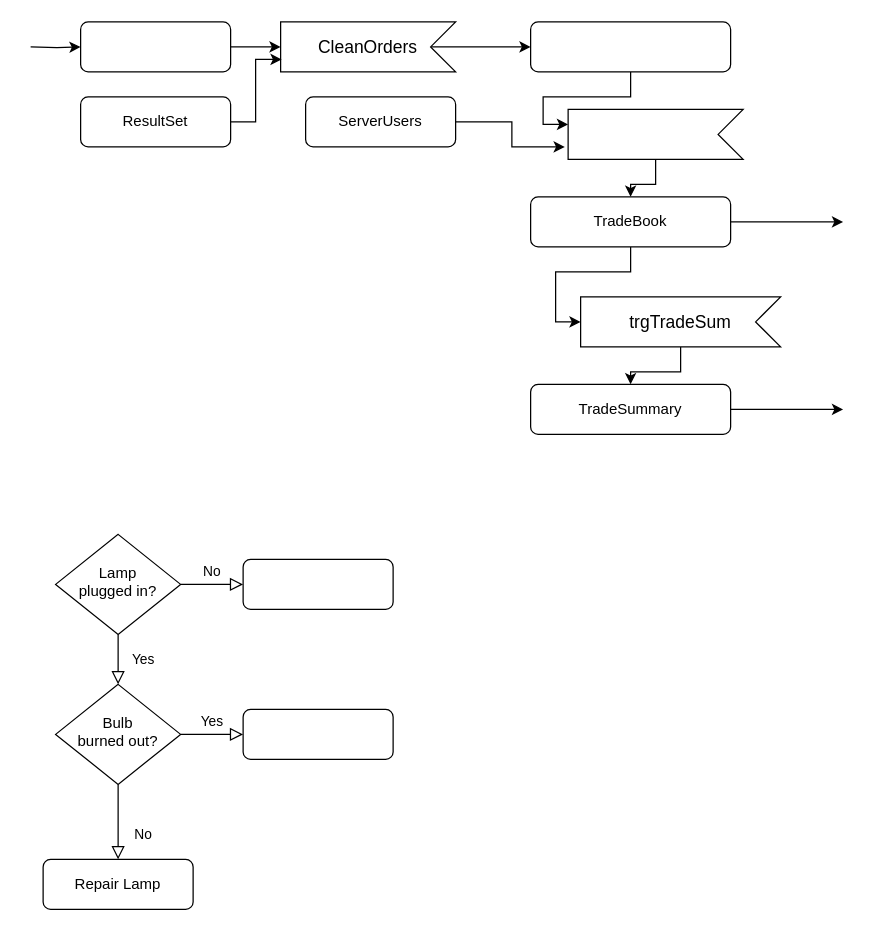
Image size: 875x931. Some labels were removed from this diagram. Each missing label, with the box of its shape:
order_msgs_noxml: (79, 21, 231, 72)
order_msgs_noxml_clean: (529, 21, 731, 72)
Plug in lamp: (242, 558, 393, 609)
Replace Bulb: (242, 708, 393, 759)
trgTradeBook: (567, 108, 743, 159)
